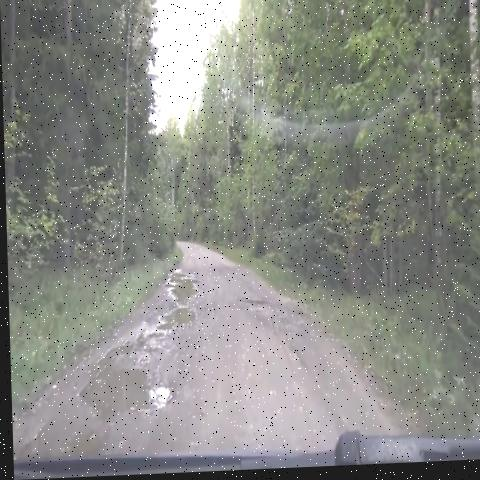pothole: (73, 347, 171, 427), (149, 299, 197, 348), (155, 266, 205, 310), (232, 291, 274, 321)
